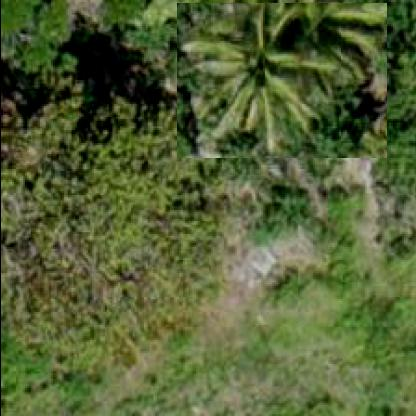coconut tree: (175, 2, 386, 158)
